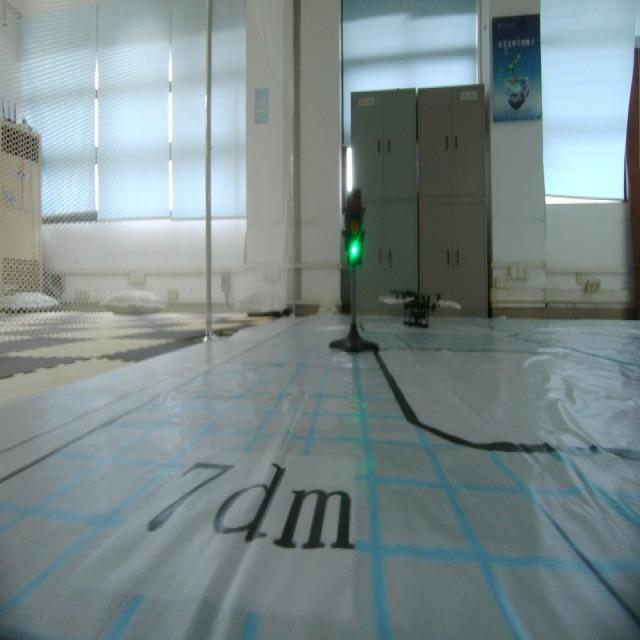green: (340, 190, 366, 268)
